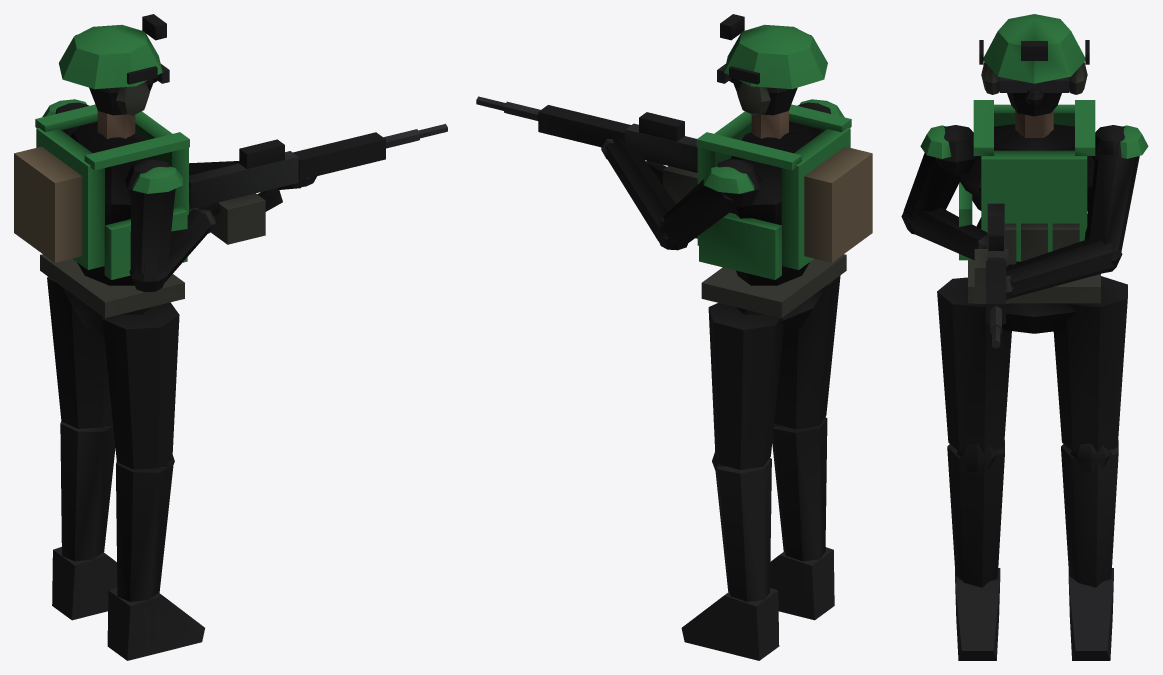
File: u_kommando_lod1.glb
3 renders of one model, left to right at view 1: azimuth 30°, elevation 25°; view 2: azimuth 150°, elevation 25°; view 3: azimuth 270°, elevation 25°, orthographic. The views are drawn at different scales.
Visible parts, largest first — view 1: Kommando_LOD1_Walls, Kommando_LOD1_shL, Kommando_LOD1_thL, Kommando_LOD1_shR, Kommando_LOD1_thR, Kommando_LOD1_Details; view 2: Kommando_LOD1_Walls, Kommando_LOD1_shR, Kommando_LOD1_thR, Kommando_LOD1_shL, Kommando_LOD1_thL, Kommando_LOD1_Details; view 3: Kommando_LOD1_Walls, Kommando_LOD1_shR, Kommando_LOD1_shL, Kommando_LOD1_thR, Kommando_LOD1_thL, Kommando_LOD1_Details.
Boxes of the visible parts, x1,y1,x2,y2 form: Kommando_LOD1_Walls: (14,14,447,334); Kommando_LOD1_shL: (107,455,204,660); Kommando_LOD1_thL: (102,302,179,469); Kommando_LOD1_shR: (52,421,117,620); Kommando_LOD1_thR: (47,276,112,428); Kommando_LOD1_Details: (40,35,184,318); Kommando_LOD1_Walls: (476,14,872,334); Kommando_LOD1_shR: (681,449,779,660); Kommando_LOD1_thR: (708,303,783,469); Kommando_LOD1_shL: (770,417,834,620); Kommando_LOD1_thL: (774,275,840,429); Kommando_LOD1_Details: (701,34,846,318); Kommando_LOD1_Walls: (901,14,1148,348); Kommando_LOD1_shR: (1061,440,1118,660); Kommando_LOD1_shL: (947,440,1004,660); Kommando_LOD1_thR: (1053,276,1127,452); Kommando_LOD1_thL: (937,277,1011,452); Kommando_LOD1_Details: (968,40,1100,303).
Size of the model in its own units: 0.412 by 0.6016 by 0.2192.
